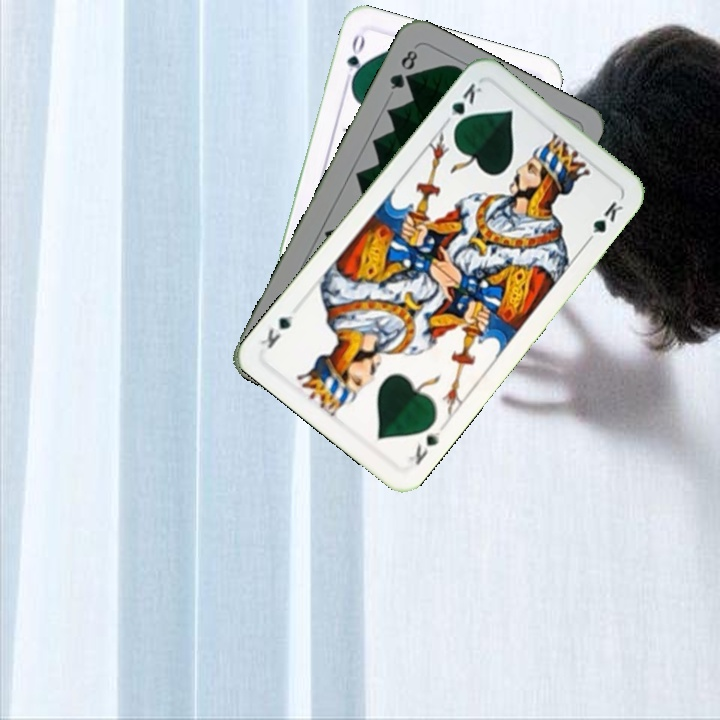G8: (385, 46, 420, 92)
GK: (440, 79, 486, 133), (404, 427, 443, 468)
GO: (340, 30, 368, 88)
